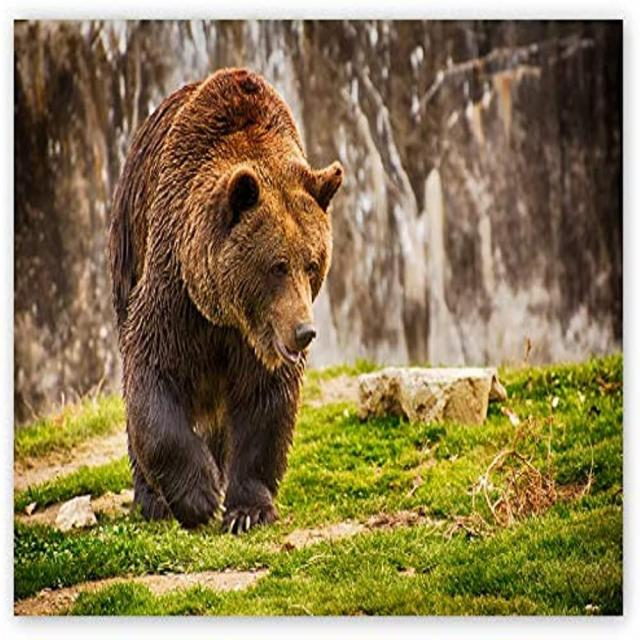Bear: (109, 68, 344, 536)
